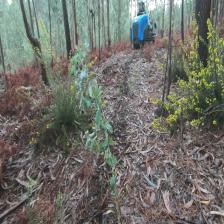trunktrack_idkeyframe: (20, 0, 49, 84), (196, 0, 212, 68), (61, 0, 73, 59), (72, 1, 79, 46), (106, 0, 112, 46), (181, 0, 184, 43)
